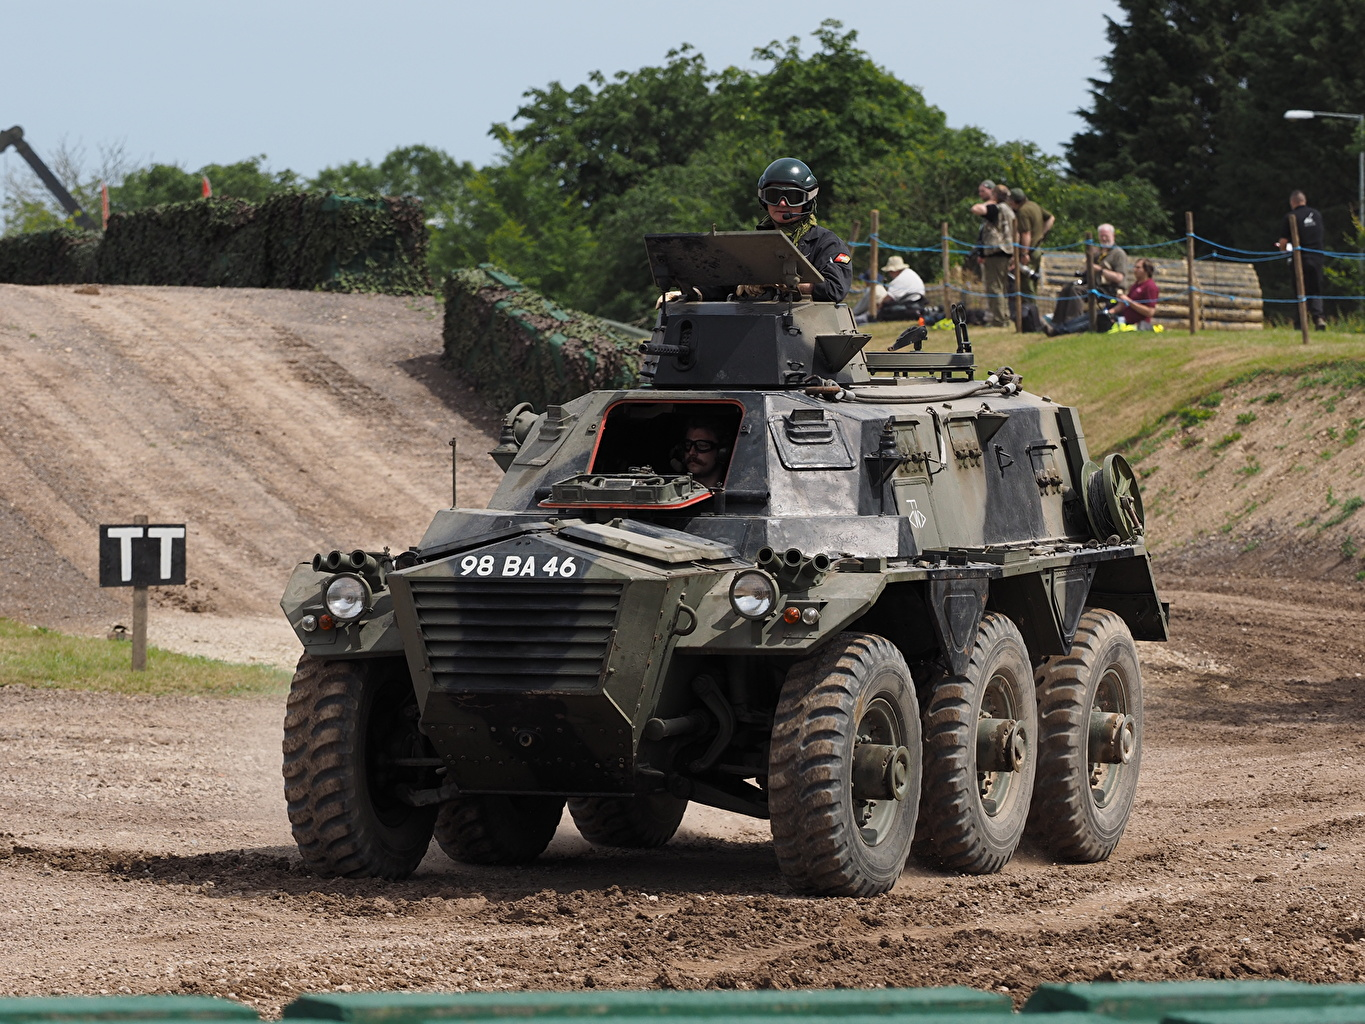btr: (300, 305, 1162, 893)
human: (966, 173, 1022, 330), (1048, 228, 1129, 334), (1001, 181, 1052, 337), (1102, 259, 1163, 337), (859, 253, 933, 311)
pilot: (713, 154, 856, 304), (647, 417, 738, 492)
